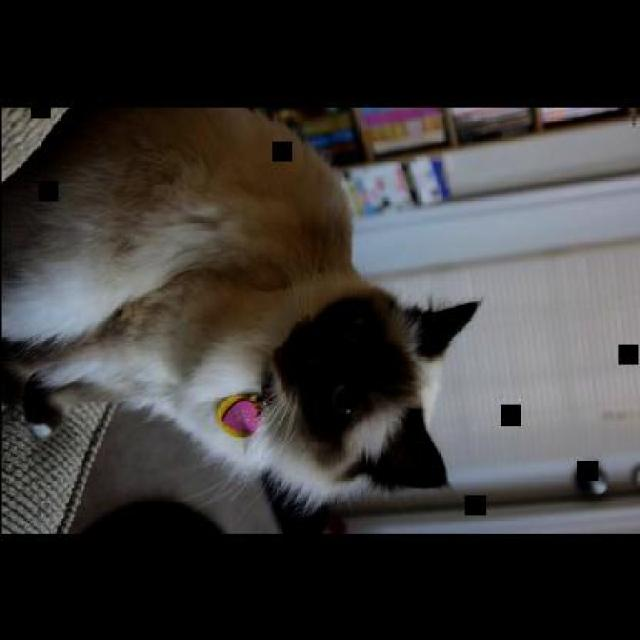unauthorized: (0, 104, 482, 534)
